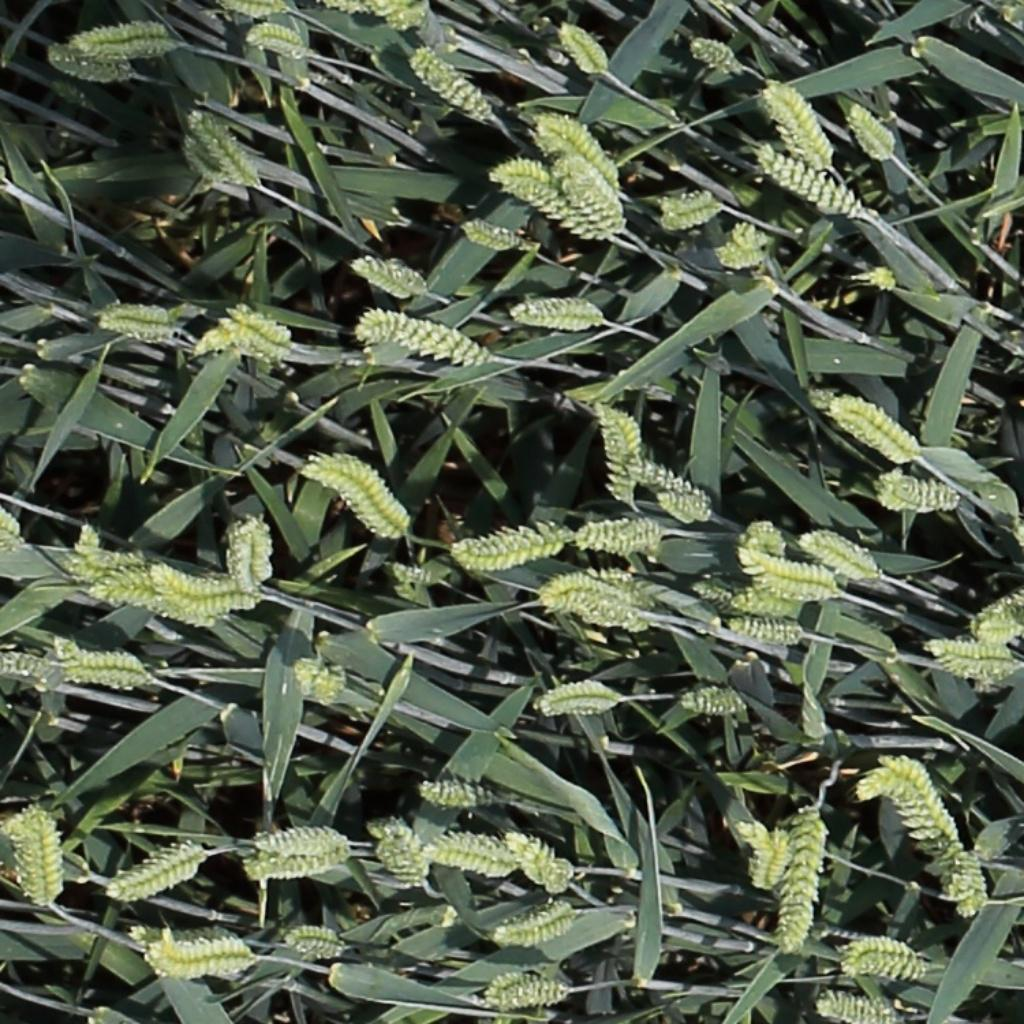0-0: (454, 515, 645, 624), (853, 745, 970, 859), (296, 445, 420, 544), (808, 374, 928, 460), (488, 159, 612, 239), (755, 144, 862, 215), (188, 102, 265, 191), (914, 631, 1024, 691), (356, 309, 483, 360), (406, 46, 491, 122), (761, 77, 831, 169), (105, 842, 212, 902), (134, 933, 251, 987), (589, 398, 647, 506), (535, 111, 621, 182), (556, 152, 630, 234), (778, 808, 824, 932), (930, 841, 997, 925), (74, 13, 178, 63), (628, 454, 715, 513), (573, 507, 671, 558), (86, 584, 210, 622), (797, 527, 881, 582), (502, 288, 611, 330), (504, 831, 575, 895), (836, 935, 933, 981), (870, 468, 962, 516), (488, 904, 584, 950), (367, 816, 428, 888), (421, 828, 514, 875), (50, 523, 134, 575), (18, 805, 62, 902), (95, 302, 184, 347), (552, 596, 657, 634), (348, 256, 441, 298), (711, 612, 817, 648), (251, 826, 355, 862), (122, 927, 245, 957), (737, 551, 834, 588), (842, 96, 897, 161), (551, 19, 610, 79), (199, 325, 286, 365), (532, 676, 623, 714), (480, 976, 573, 1013), (82, 563, 182, 595), (812, 990, 906, 1024), (966, 591, 1024, 646), (146, 570, 244, 602), (43, 43, 128, 79), (245, 20, 316, 63), (735, 819, 775, 894), (294, 648, 348, 703), (711, 221, 770, 271), (776, 890, 817, 961), (414, 771, 496, 806), (280, 922, 352, 961), (656, 189, 725, 229), (755, 824, 791, 898), (174, 126, 222, 181), (225, 304, 290, 344), (233, 513, 264, 596), (225, 521, 255, 599), (458, 218, 531, 249), (243, 856, 341, 879), (686, 36, 740, 73), (384, 557, 438, 590), (678, 686, 740, 712), (761, 577, 831, 600), (740, 521, 783, 558), (655, 491, 709, 520), (729, 593, 797, 615), (47, 75, 87, 106), (1008, 513, 1024, 587), (219, 0, 283, 16)
